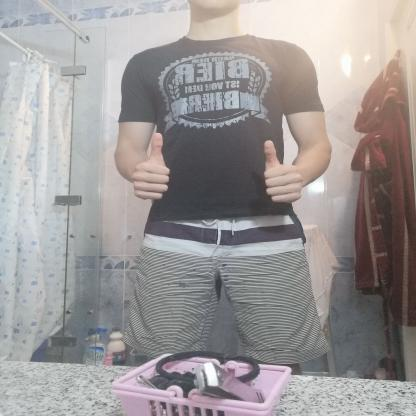ALIF: (244, 131, 315, 211), (121, 128, 179, 204)
